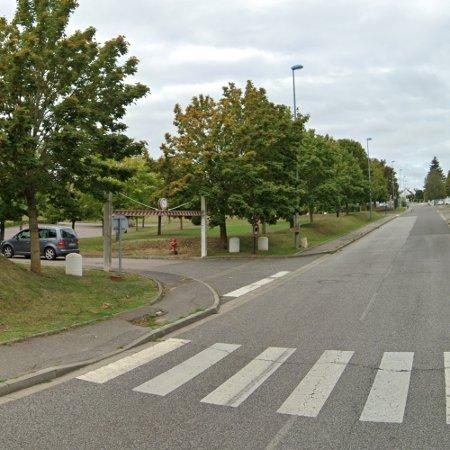crosswalks: (71, 336, 450, 427)
